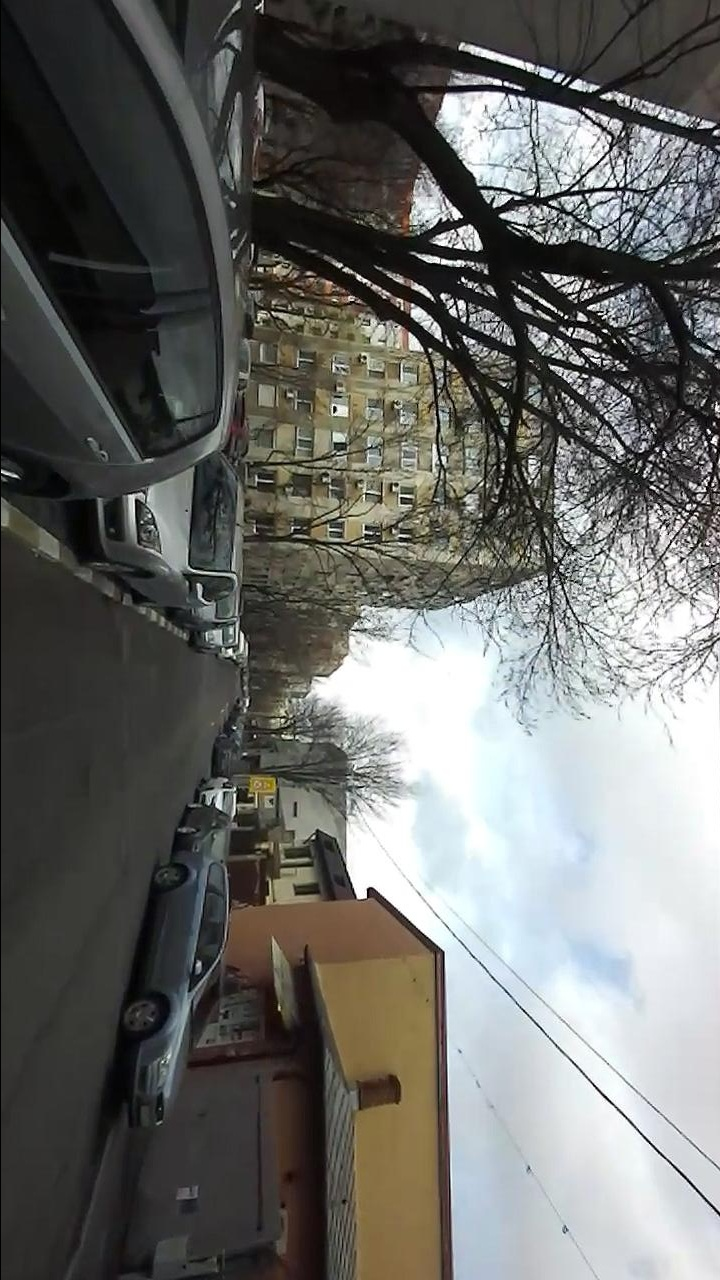pothole: (73, 759, 99, 804)
